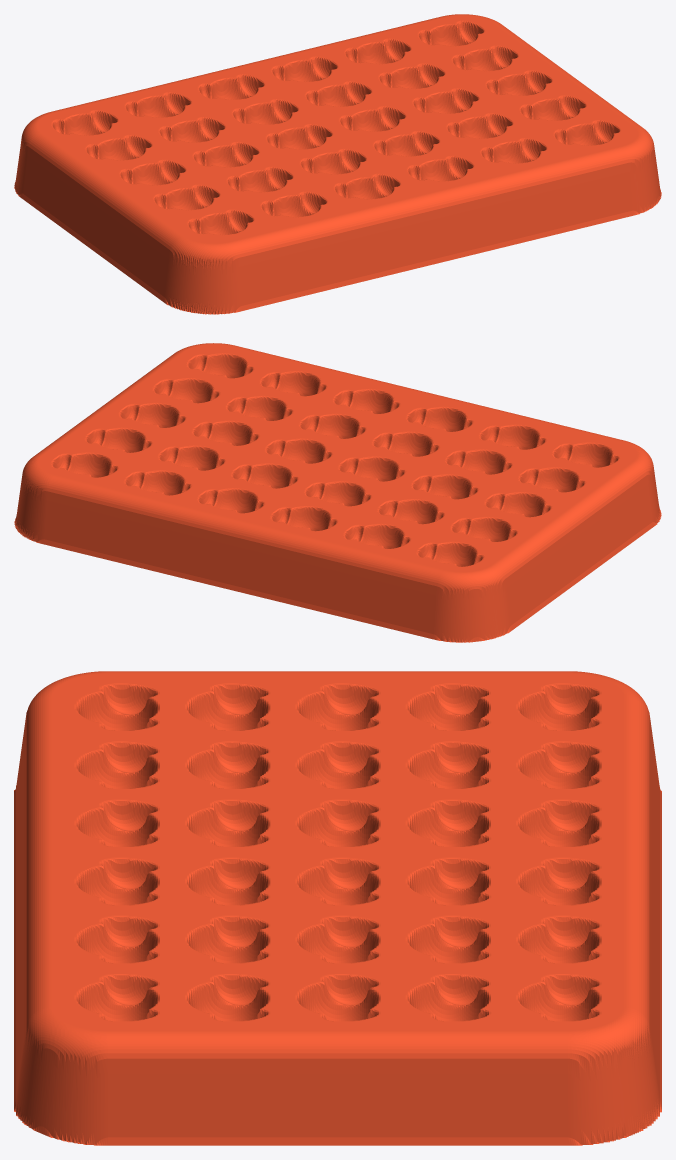
Rendered from mold.glb.
The picture shows the model from 3 angles, top to bottom: view 1: azimuth 30°, elevation 25°; view 2: azimuth 150°, elevation 25°; view 3: azimuth 270°, elevation 25°; orthographic projection. The views are drawn at different scales.
Visible parts, largest first — view 1: geometry_0; view 2: geometry_0; view 3: geometry_0.
Boxes of the visible parts, bbox=[...] form: geometry_0: bbox=[14, 14, 661, 314]; geometry_0: bbox=[14, 343, 661, 642]; geometry_0: bbox=[14, 671, 661, 1145].
Size of the model in its own units: 0.0884 by 0.0105 by 0.0622.
